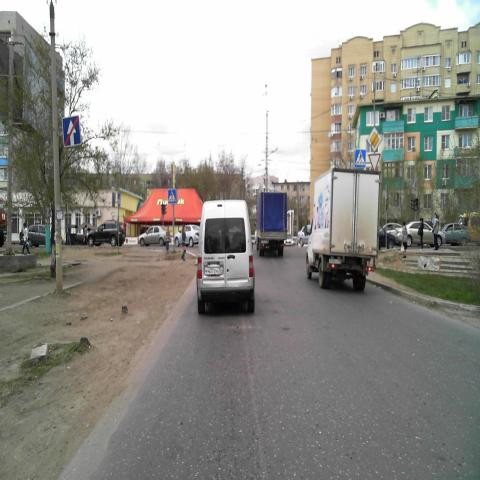2_2: (367, 129, 381, 150)
5_6: (61, 114, 80, 146)
